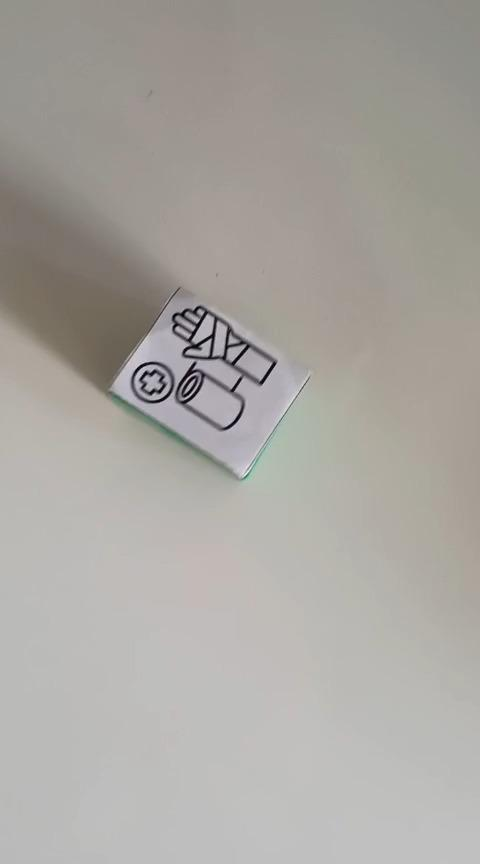Bandages: (106, 284, 311, 480)
